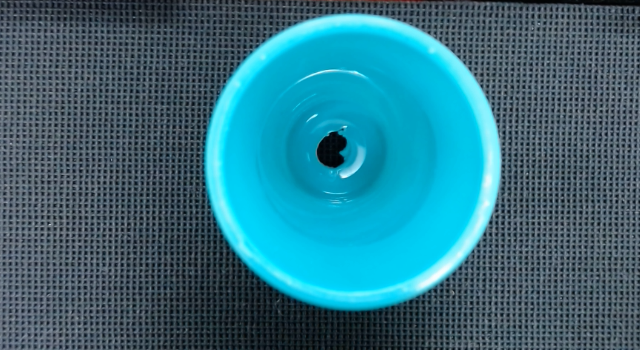hole: (316, 132, 347, 167)
